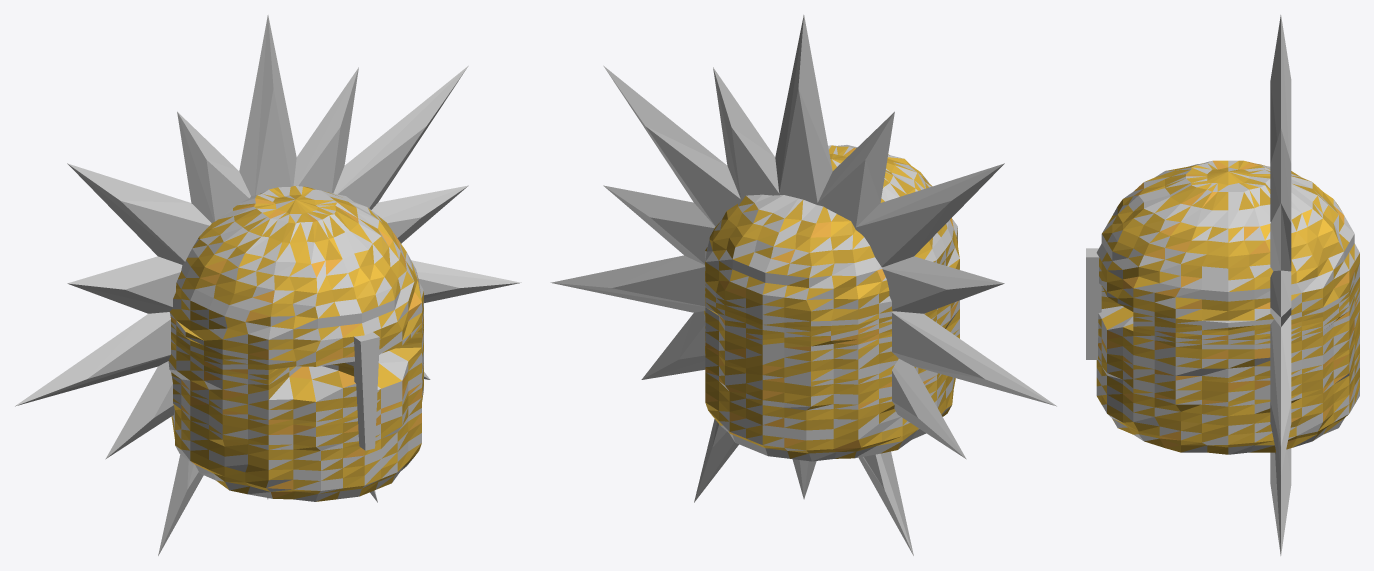
File: B08_2_solar_helm.obj
The picture shows the model from 3 angles, left to right: view 1: azimuth 30°, elevation 25°; view 2: azimuth 150°, elevation 25°; view 3: azimuth 270°, elevation 25°; orthographic projection. The views are drawn at different scales.
Visible parts, largest first — view 1: B08_2_solar_helm; view 2: B08_2_solar_helm; view 3: B08_2_solar_helm.
Part boxes in pixels (box(x1,y1,x2,y2)): B08_2_solar_helm: box(15, 15, 521, 555); B08_2_solar_helm: box(550, 15, 1056, 555); B08_2_solar_helm: box(1086, 15, 1359, 555).
Bounding box in the file's own units: 106 × 103 × 52.
